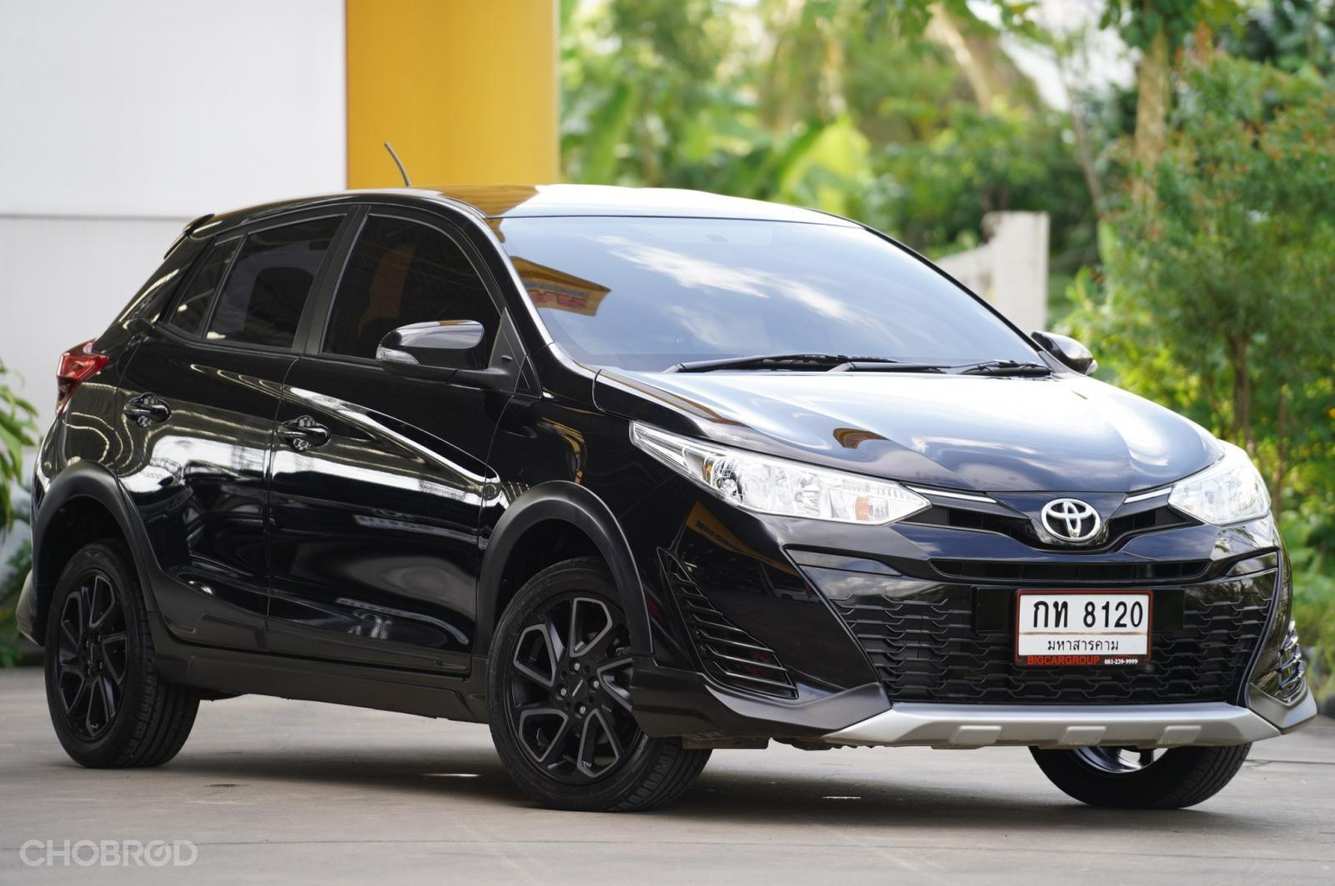license-plate: (1013, 588, 1159, 668)
